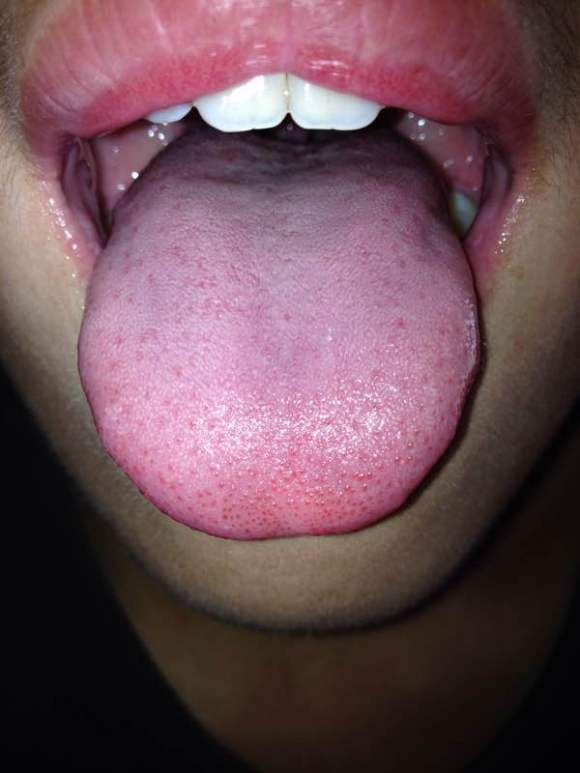baitaishe: (77, 121, 479, 541)
hongdianshe: (217, 479, 226, 489)
zishe: (77, 121, 479, 541)
